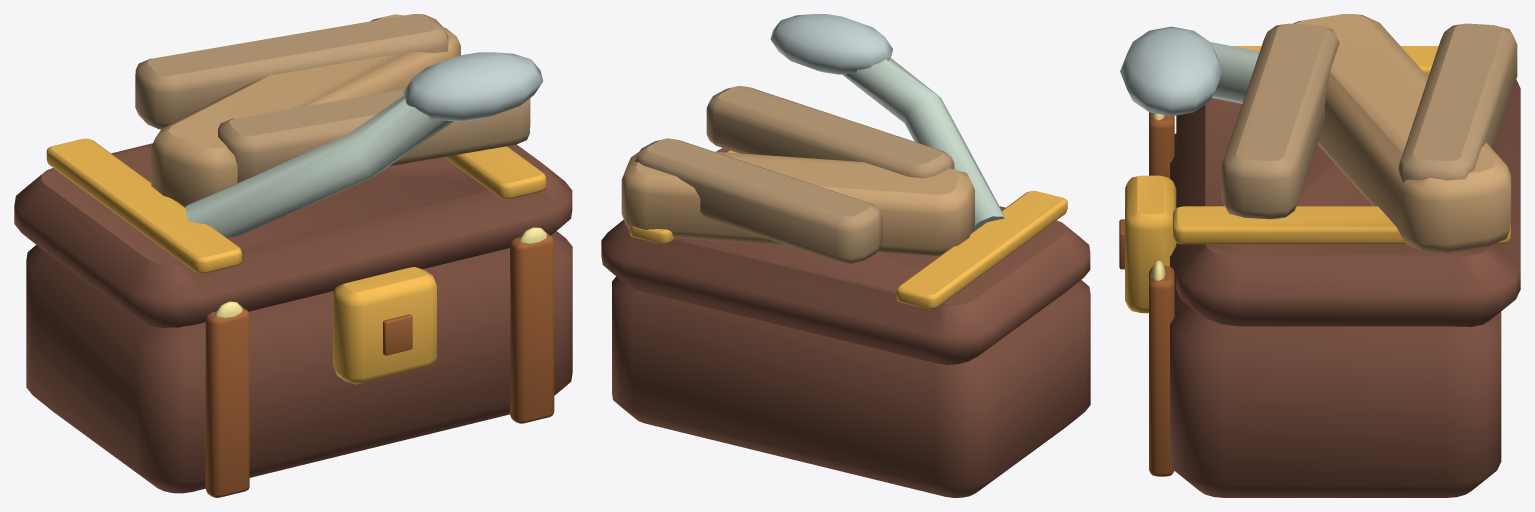
File: builder.glb
The picture shows the model from 3 angles, left to right: view 1: azimuth 30°, elevation 25°; view 2: azimuth 150°, elevation 25°; view 3: azimuth 270°, elevation 25°; orthographic projection. The views are drawn at different scales.
Parts seen in each view (by area): view 1: builder; view 2: builder; view 3: builder.
Boxes of the visible parts, bbox=[...] form: builder: bbox=[14, 14, 572, 497]; builder: bbox=[601, 14, 1090, 497]; builder: bbox=[1119, 14, 1520, 497].
Size of the model in its own units: 1.71 by 1.39 by 1.25.
